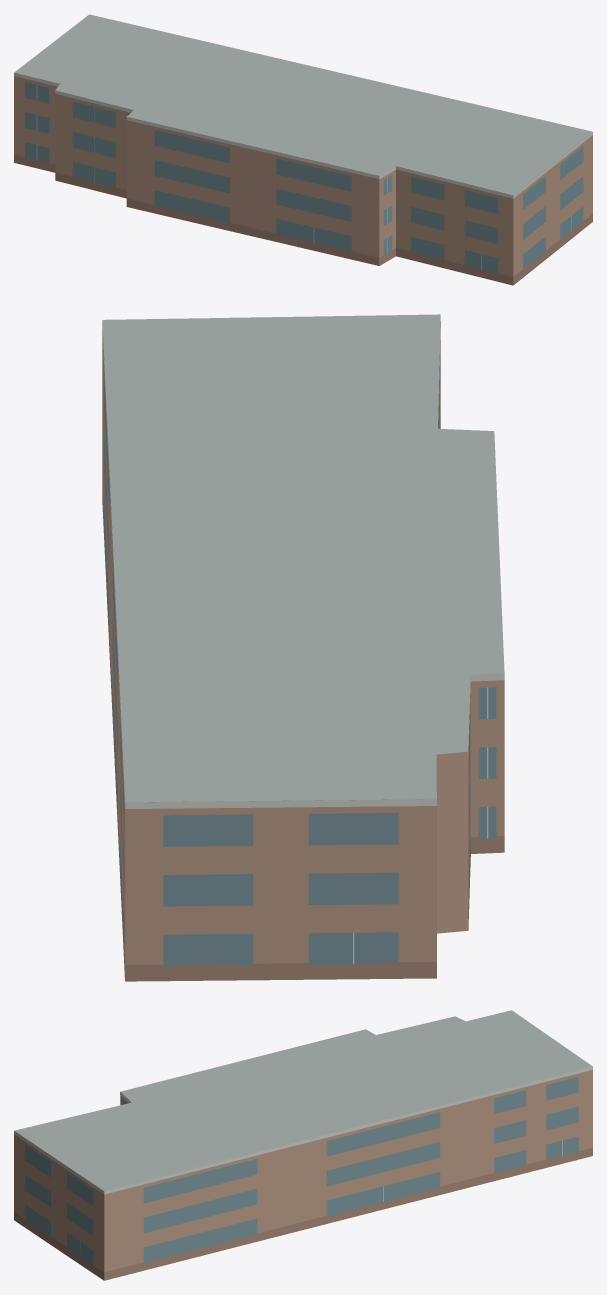
File: survey-upis-32503949.glb
3 views of the same model, one above another, from view 1: azimuth 30°, elevation 25°; view 2: azimuth 150°, elevation 25°; view 3: azimuth 270°, elevation 25° (orthographic). The views are drawn at different scales.
Parts seen in each view (by area): view 1: survey-upis-32503949.tmp; view 2: survey-upis-32503949.tmp; view 3: survey-upis-32503949.tmp.
Part boxes in pixels (<box>): survey-upis-32503949.tmp: <box>14,14,592,285</box>; survey-upis-32503949.tmp: <box>102,314,504,981</box>; survey-upis-32503949.tmp: <box>14,1010,592,1280</box>.
Bounding box in the file's own units: 28.19 × 6.5 × 38.08.
